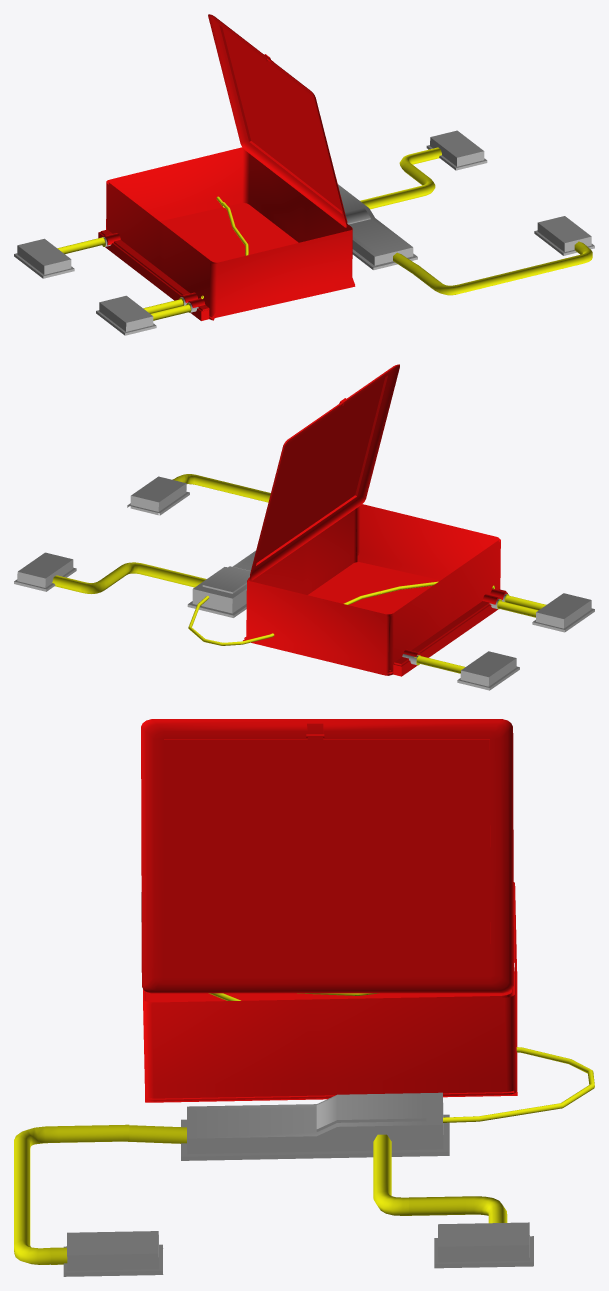
File: fusibles.fbx
3 renders of one model, top to bottom at view 1: azimuth 30°, elevation 25°; view 2: azimuth 150°, elevation 25°; view 3: azimuth 270°, elevation 25°, orthographic. The views are drawn at different scales.
Parts seen in each view (by area): view 1: pasted__Mesh (×2), group2, pasted__pasted__Mesh; view 2: pasted__Mesh (×2), group2, pasted__pasted__Mesh, sweep1; view 3: pasted__Mesh (×2), group2, pasted__pasted__Mesh, sweep1.
Part boxes in pixels (x1=…): pasted__Mesh (×2): x1=100, y1=14, x2=354, y2=316; group2: x1=14, y1=130, x2=594, y2=335; pasted__pasted__Mesh: x1=208, y1=15, x2=346, y2=226; pasted__Mesh (×2): x1=244, y1=364, x2=507, y2=671; group2: x1=14, y1=474, x2=594, y2=690; pasted__pasted__Mesh: x1=251, y1=365, x2=398, y2=578; sweep1: x1=188, y1=595, x2=274, y2=645; pasted__Mesh (×2): x1=141, y1=719, x2=514, y2=1099; group2: x1=14, y1=882, x2=533, y2=1276; pasted__pasted__Mesh: x1=141, y1=719, x2=513, y2=993; sweep1: x1=443, y1=1047, x2=594, y2=1122.
Bounding box in the file's own units: 0.9261 × 0.4011 × 0.6034.
